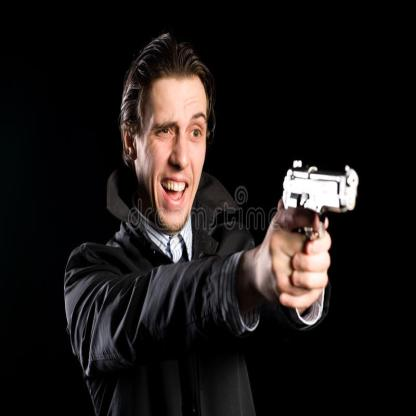handgun: (282, 159, 359, 232)
